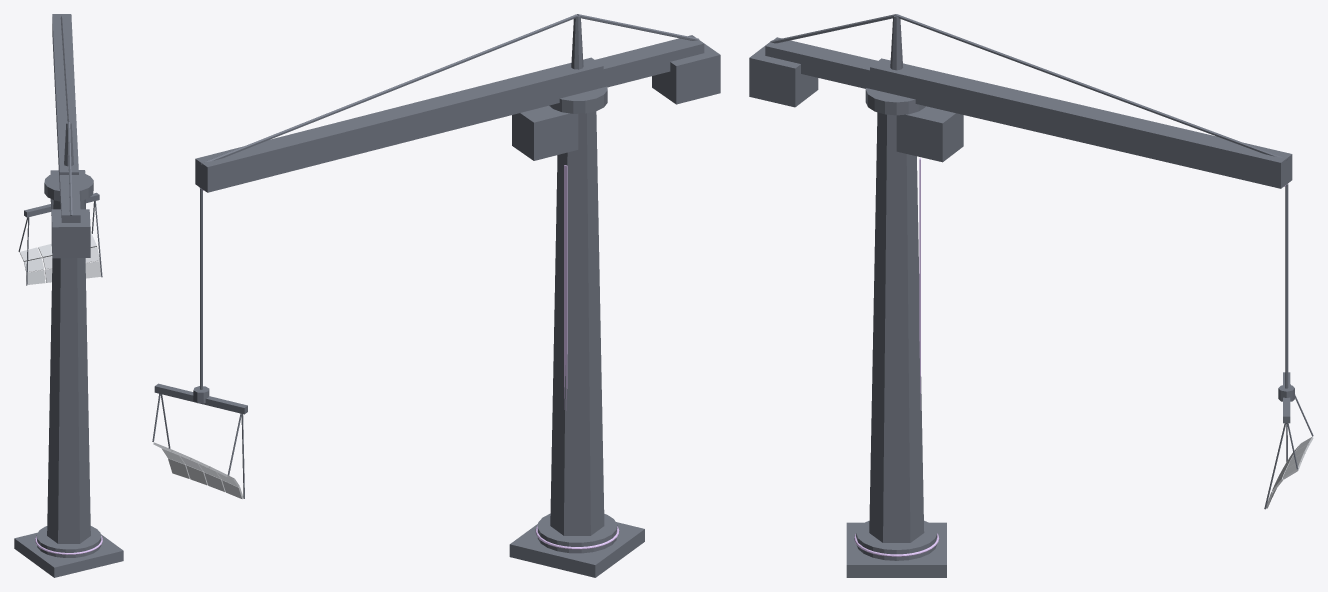
The model's file is PR_Guindaste_Doca.fbx.
3 renders of one model, left to right at view 1: azimuth 30°, elevation 25°; view 2: azimuth 150°, elevation 25°; view 3: azimuth 270°, elevation 25°, orthographic. The views are drawn at different scales.
Visible parts, largest first — view 1: PR_Guindaste_Doca; view 2: PR_Guindaste_Doca; view 3: PR_Guindaste_Doca.
Boxes of the visible parts, x1,y1,x2,y2 form: PR_Guindaste_Doca: (14, 14, 123, 577); PR_Guindaste_Doca: (152, 14, 720, 577); PR_Guindaste_Doca: (749, 14, 1313, 577).
Bounding box in the file's own units: 15.21 × 25.08 × 23.64.
